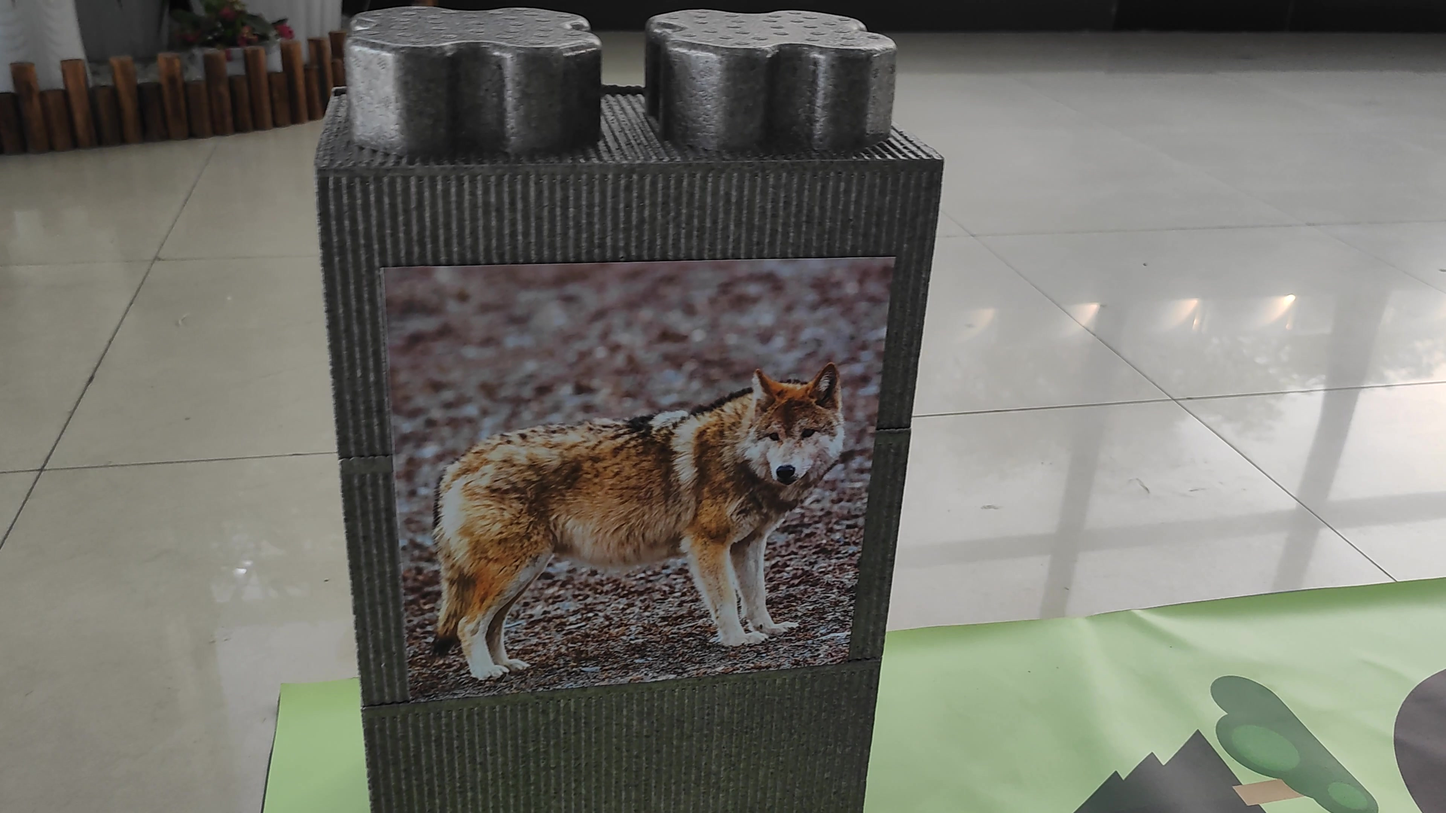wolf: (416, 360, 876, 699)
